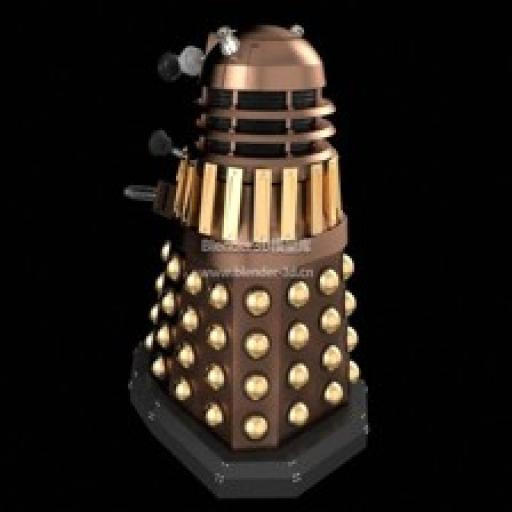dalek: (112, 17, 380, 505)
